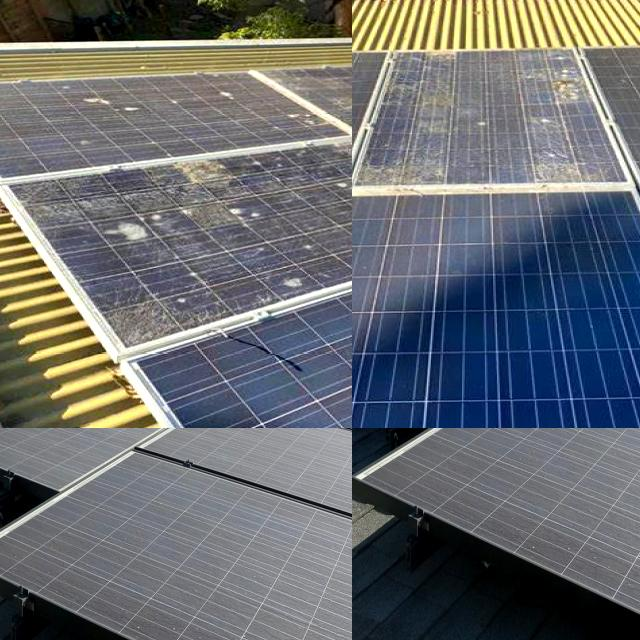bird: (60, 80, 184, 124), (362, 141, 459, 189), (514, 137, 602, 189), (371, 99, 468, 139), (390, 44, 480, 84), (160, 146, 244, 186), (101, 199, 160, 251), (550, 52, 594, 114), (280, 98, 352, 135), (297, 159, 352, 201), (130, 297, 176, 341), (191, 70, 250, 102), (262, 268, 309, 298), (224, 204, 266, 233), (325, 213, 352, 238), (0, 101, 15, 137)
dust: (126, 437, 290, 636), (520, 428, 640, 556), (352, 428, 469, 475), (0, 428, 74, 475), (80, 428, 193, 455), (475, 428, 588, 455), (317, 428, 352, 514), (198, 428, 311, 443), (251, 428, 286, 458), (593, 428, 640, 443)
